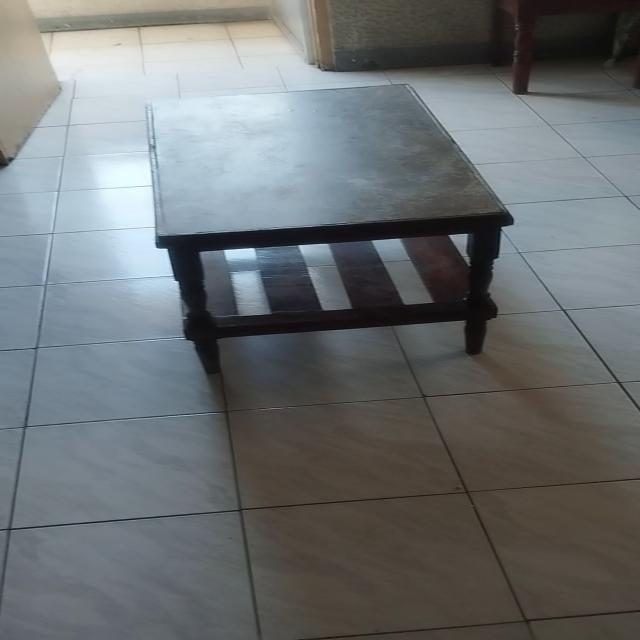table: (135, 79, 512, 372)
